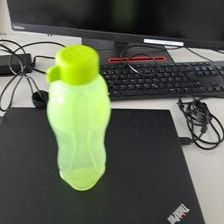bottle: (45, 42, 112, 189)
